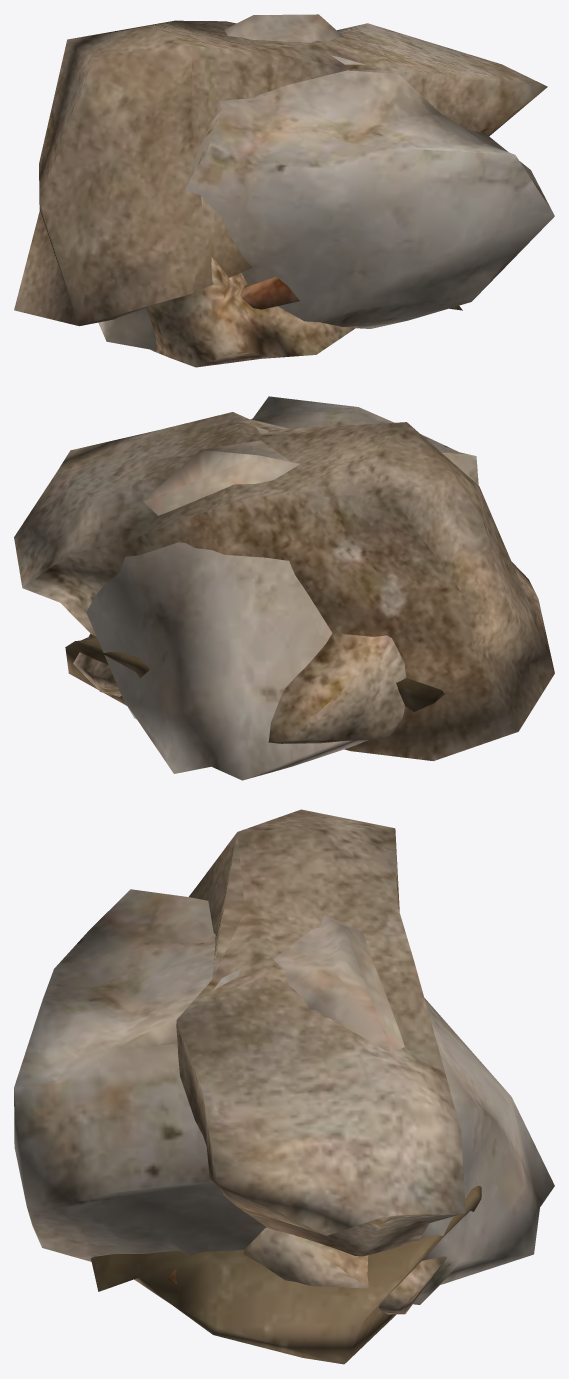
The model's file is namaqualand_stones_01.glb.
3 views of the same model, one above another, from view 1: azimuth 30°, elevation 25°; view 2: azimuth 150°, elevation 25°; view 3: azimuth 270°, elevation 25° (orthographic). The views are drawn at different scales.
Visible parts, largest first — view 1: e_lod0, b_lod0, c_lod0, d_lod0; view 2: b_lod0, e_lod0, c_lod0, d_lod0; view 3: e_lod0, b_lod0, d_lod0, c_lod0.
Boxes of the visible parts, bbox=[...] form: e_lod0: bbox=[98, 14, 554, 350]; b_lod0: bbox=[14, 20, 547, 326]; c_lod0: bbox=[146, 257, 357, 367]; d_lod0: bbox=[240, 276, 462, 310]; b_lod0: bbox=[14, 412, 554, 761]; e_lod0: bbox=[86, 396, 478, 780]; c_lod0: bbox=[73, 633, 406, 743]; d_lod0: bbox=[65, 636, 444, 711]; e_lod0: bbox=[14, 889, 554, 1304]; b_lod0: bbox=[176, 809, 465, 1256]; d_lod0: bbox=[91, 1185, 481, 1364]; c_lod0: bbox=[243, 1227, 447, 1314].
Size of the model in its own units: 0.1429 by 0.0816 by 0.1114.
Materials: 1 (1 with a texture image).
